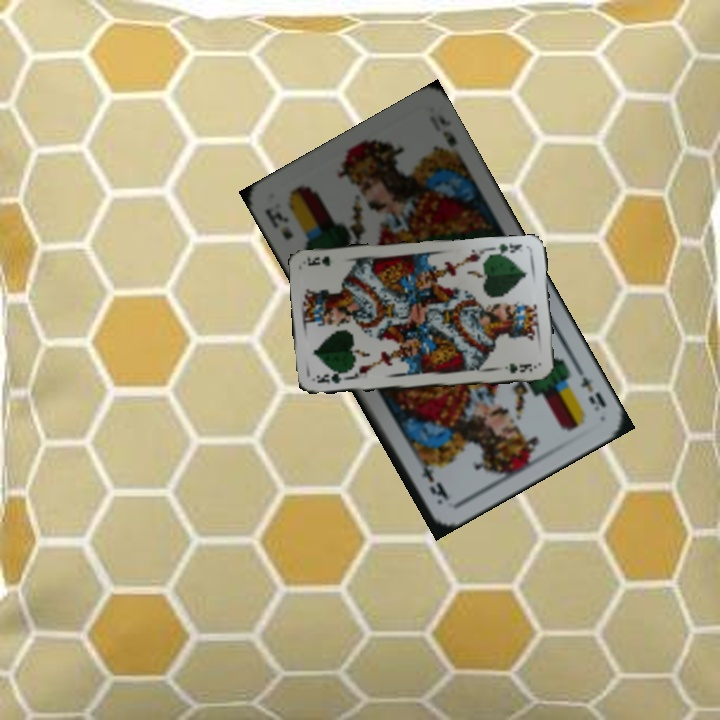EK: (571, 361, 609, 414), (261, 203, 296, 242)
GK: (310, 369, 350, 386), (492, 239, 525, 259)
